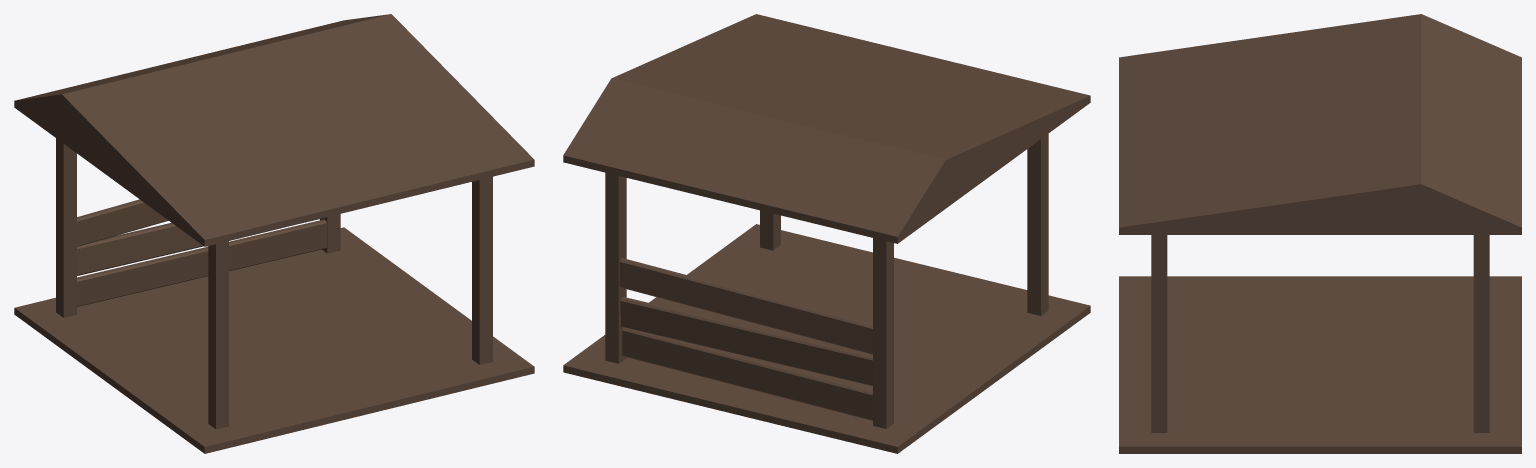
Rendered from Shack.fbx.
3 views of the same model, side by side, from view 1: azimuth 30°, elevation 25°; view 2: azimuth 150°, elevation 25°; view 3: azimuth 270°, elevation 25° (orthographic). The views are drawn at different scales.
Parts seen in each view (by area): view 1: Shack, Wall.003; view 2: Shack, Wall.003; view 3: Shack.
Boxes of the visible parts, x1,y1,x2,y2 form: Shack: (14,14,534,453); Wall.003: (77,199,326,306); Shack: (563,14,1090,453); Wall.003: (619,258,872,420); Shack: (1119,14,1521,453).
Size of the model in its own units: 10 by 7.39 by 10.
